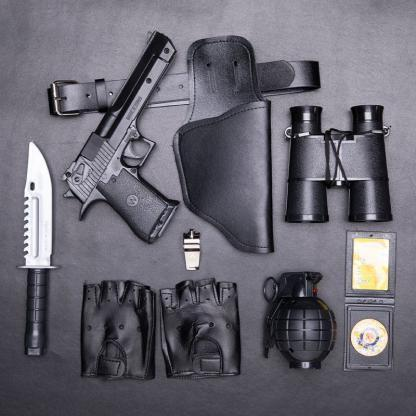Grenade: (260, 267, 338, 373)
Knife: (21, 138, 59, 358)
Pistol: (61, 30, 182, 246)
